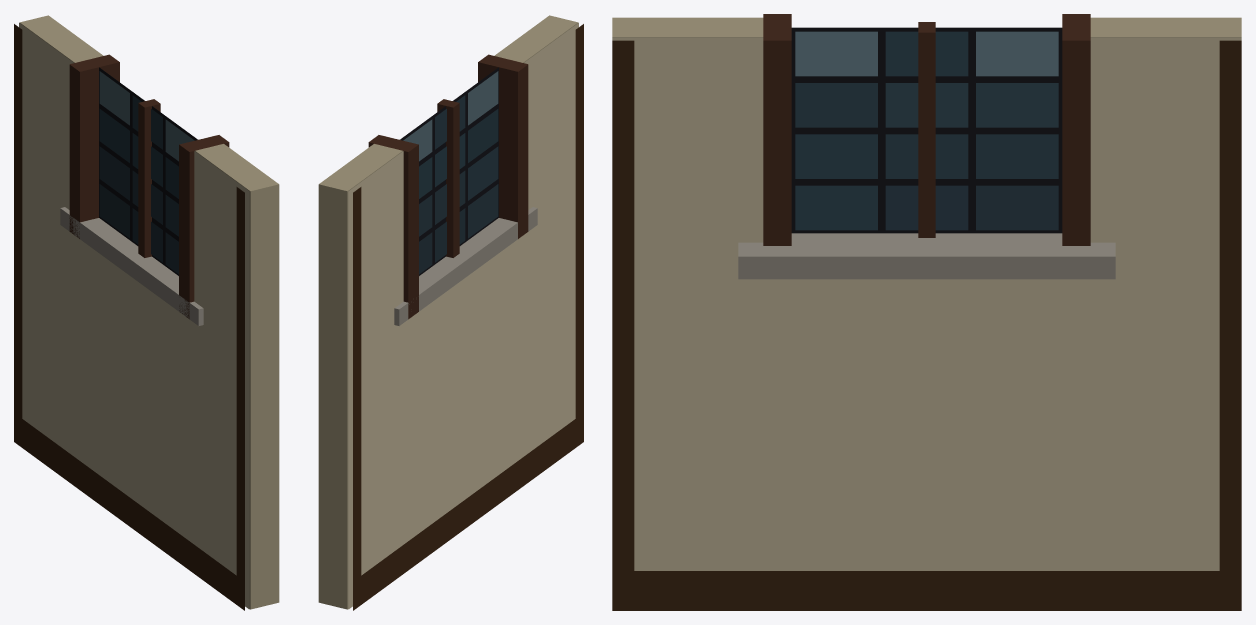
The model's file is wall-halftimber-window-low.glb.
3 renders of one model, left to right at view 1: azimuth 30°, elevation 25°; view 2: azimuth 150°, elevation 25°; view 3: azimuth 270°, elevation 25°, orthographic. The views are drawn at different scales.
Parts seen in each view (by area): view 1: wall-halftimber-window-low; view 2: wall-halftimber-window-low; view 3: wall-halftimber-window-low.
Boxes of the visible parts, bbox=[...] form: wall-halftimber-window-low: bbox=[14, 15, 279, 610]; wall-halftimber-window-low: bbox=[318, 15, 583, 610]; wall-halftimber-window-low: bbox=[612, 14, 1241, 610].
Bounding box in the file's own units: 0.14 × 1 × 1.
